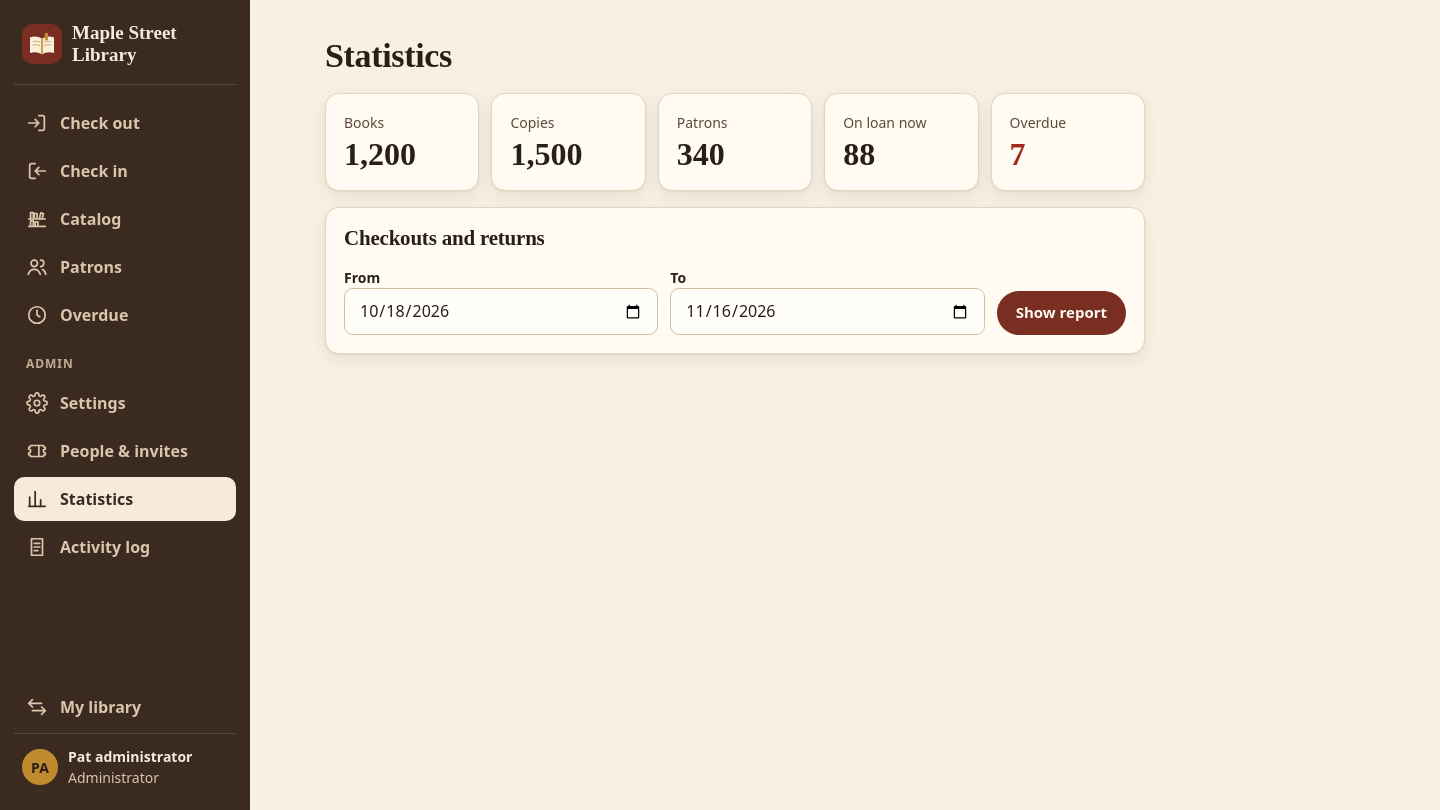
ADMIN-3 Statistics and circulation reports › a range the server refuses is explained under the field
Expected: the element named "Library statistics" is shown, 325,93 -> 1145,191
Step 1. Type "2026-02-01" into the date field labelled "From" → (501, 312), box 344,288 -> 658,335
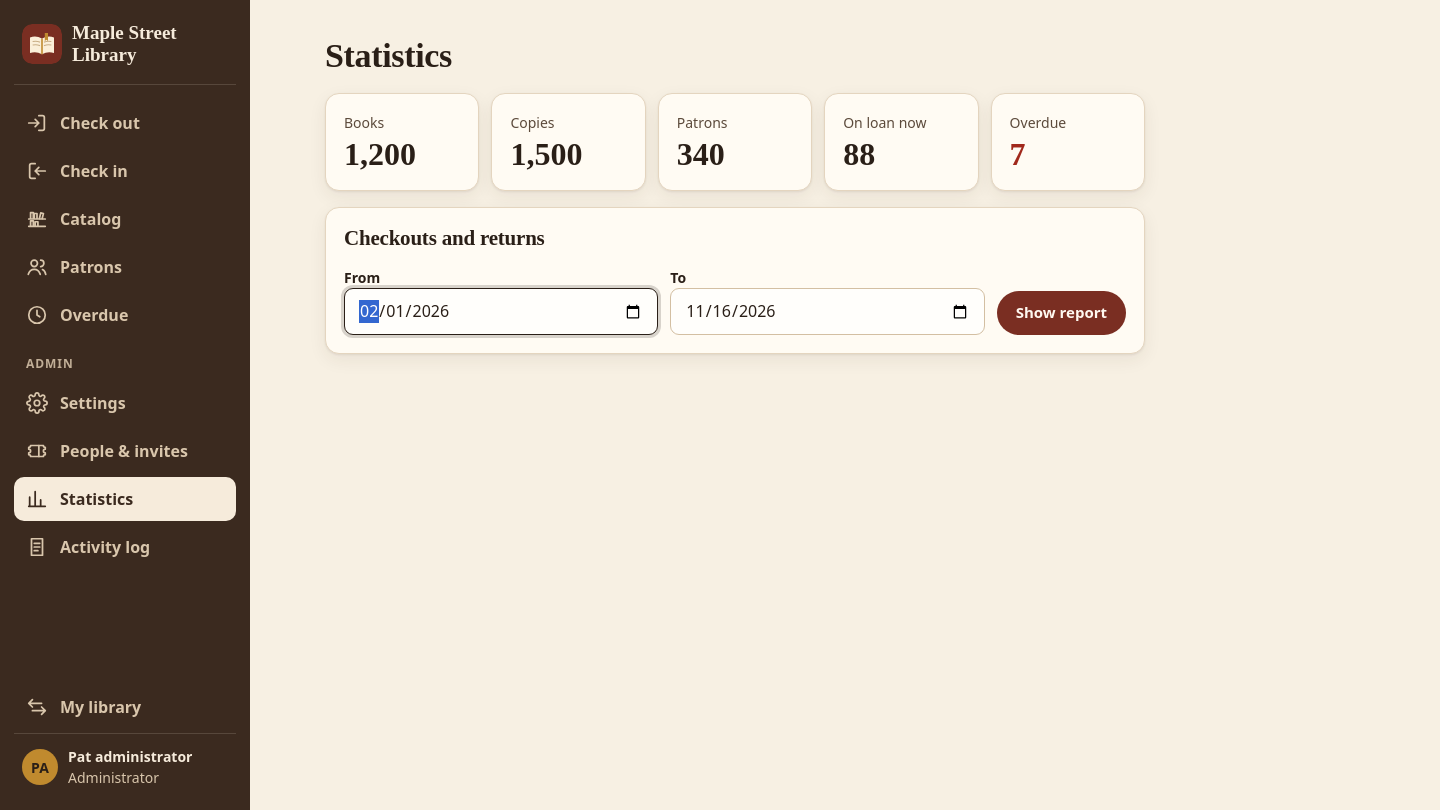
Step 2. Type "2026-01-01" into the date field labelled "To" → (827, 312), box 670,288 -> 985,335
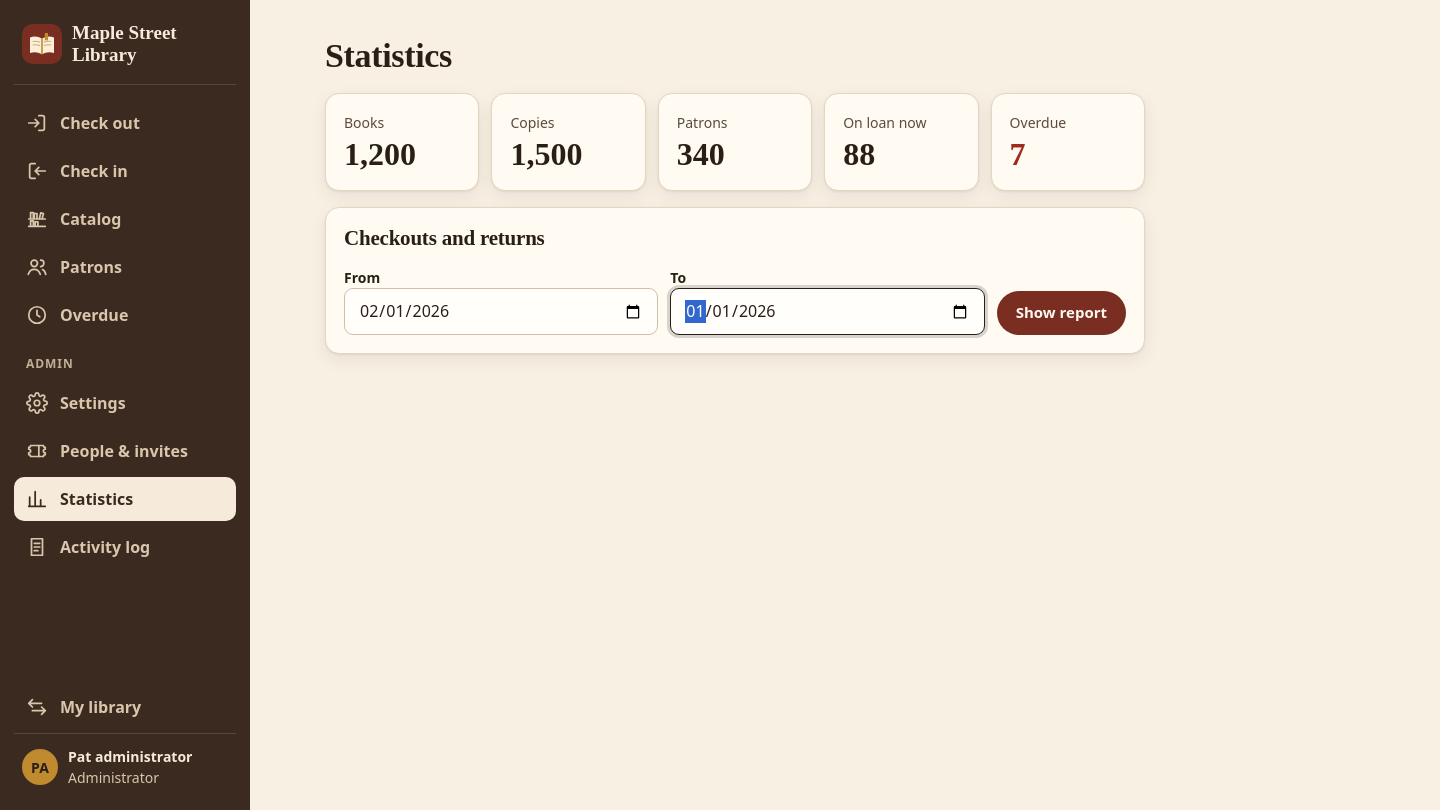
Step 3. Click the button "Show report" → (1061, 313), box 997,291 -> 1126,335
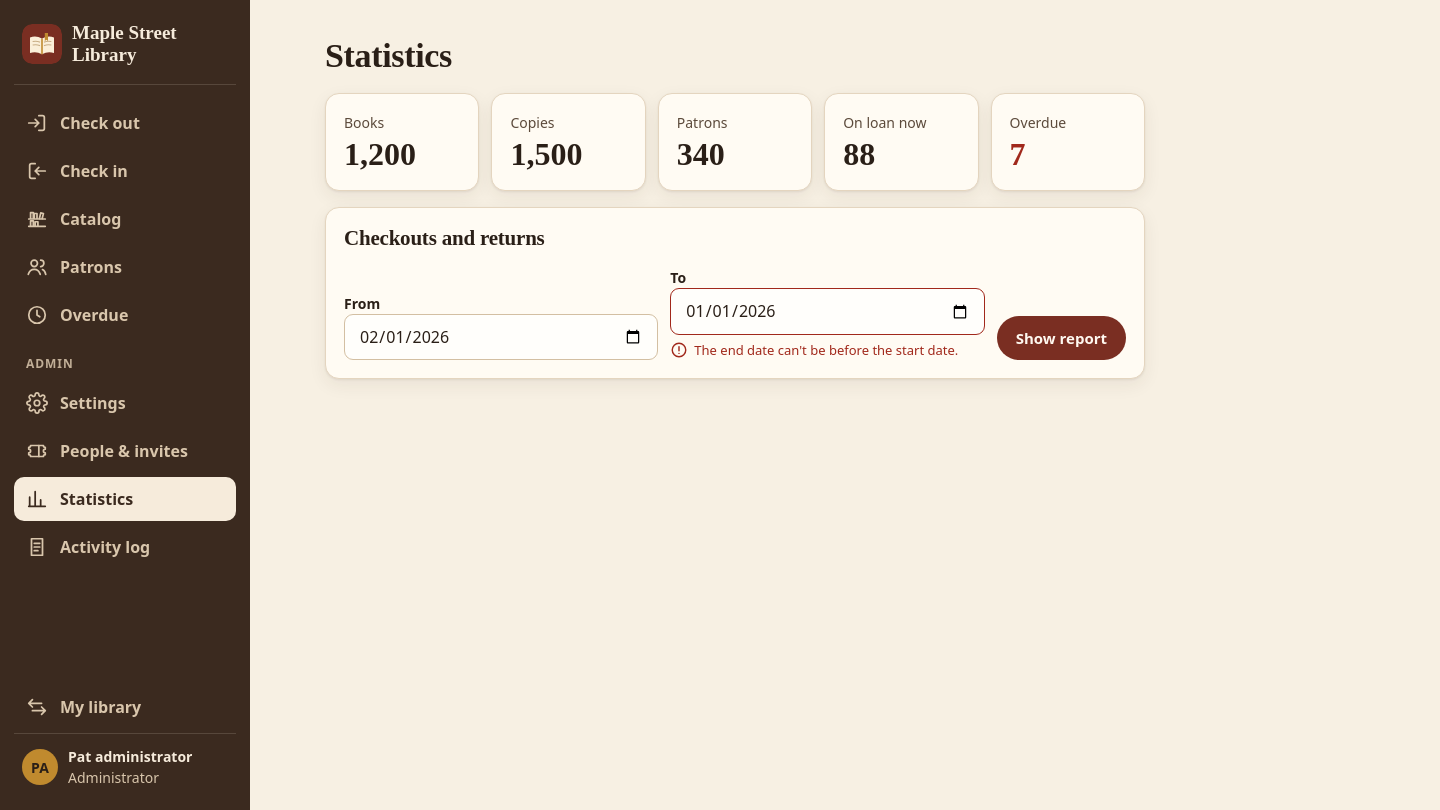
Result: the text "The end date can't be before the start date." is shown at 670,341 -> 985,360
